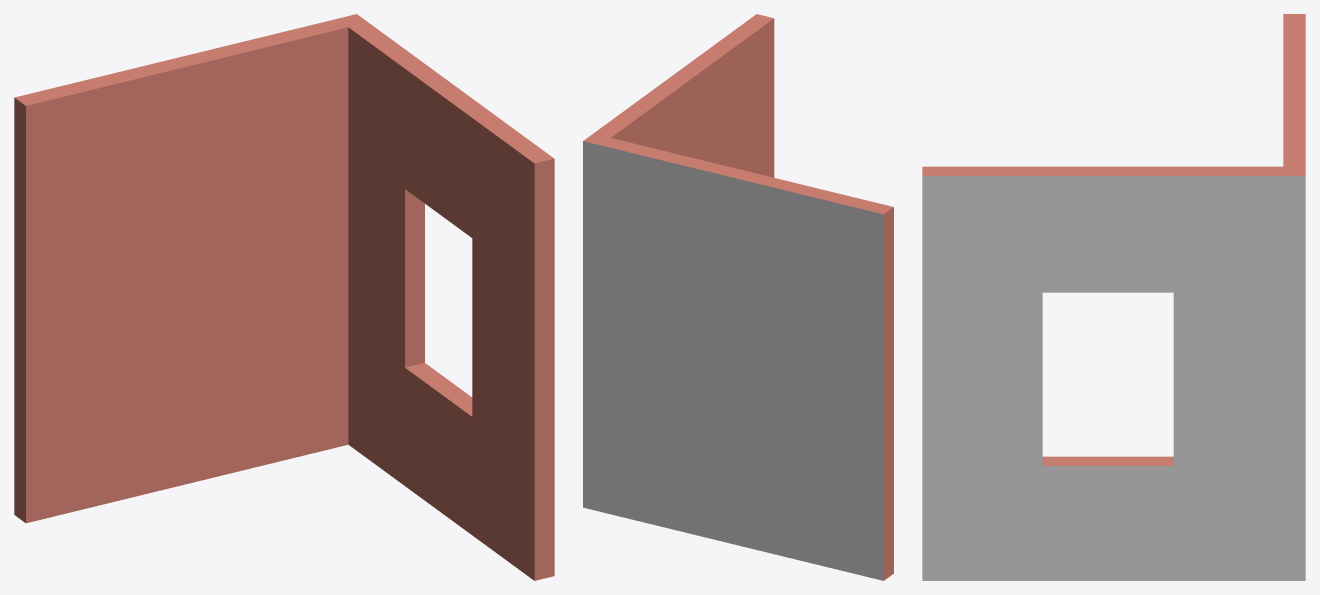
The model's file is Wall1_C6_08.fbx.
3 renders of one model, left to right at view 1: azimuth 30°, elevation 25°; view 2: azimuth 150°, elevation 25°; view 3: azimuth 270°, elevation 25°, orthographic. The views are drawn at different scales.
Visible parts, largest first — view 1: Wall1_C6_08; view 2: Wall1_C6_08; view 3: Wall1_C6_08.
Part boxes in pixels (x1=…): Wall1_C6_08: x1=14, y1=14, x2=554, y2=580; Wall1_C6_08: x1=583, y1=14, x2=893, y2=580; Wall1_C6_08: x1=922, y1=14, x2=1305, y2=580.
Size of the model in its own units: 258 by 300 by 258.
